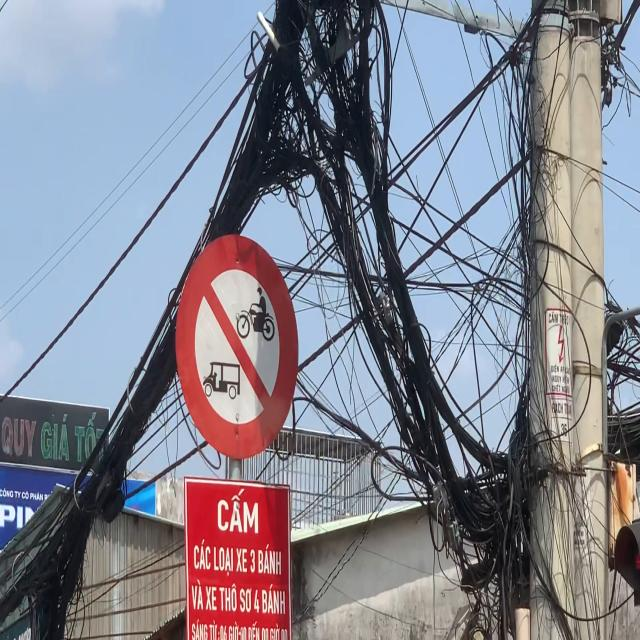Cam con lai: (174, 234, 299, 463)
